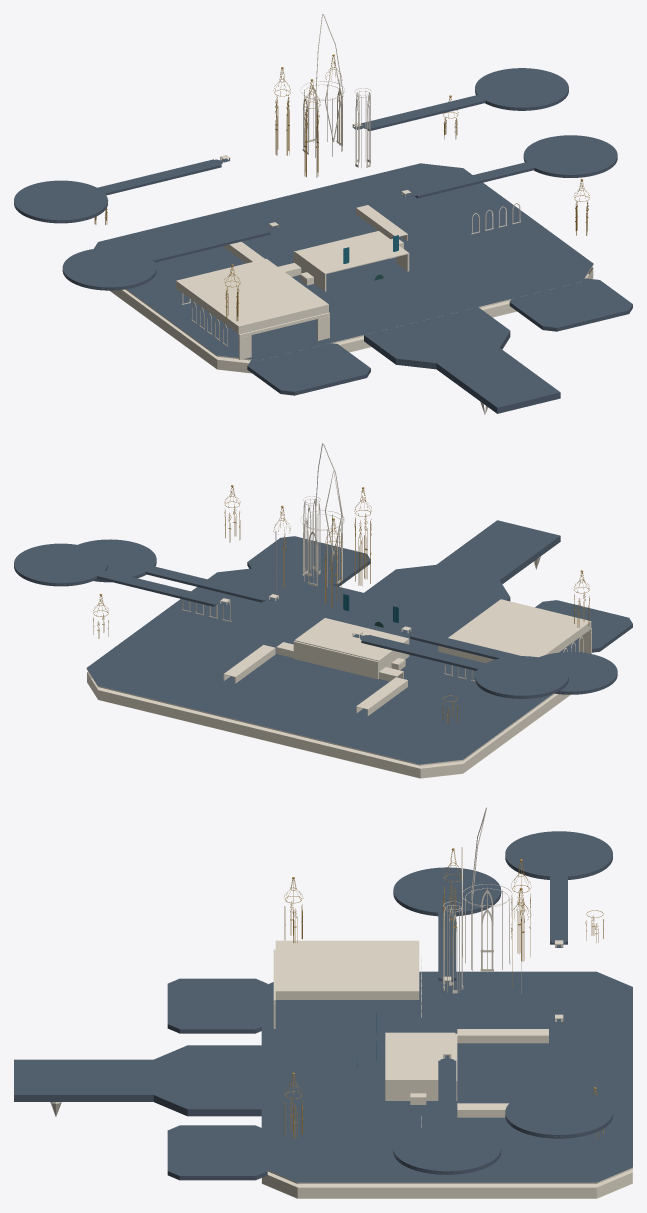
The model's file is Spaceport-00.glb.
3 renders of one model, top to bottom at view 1: azimuth 30°, elevation 25°; view 2: azimuth 150°, elevation 25°; view 3: azimuth 270°, elevation 25°, orthographic. The views are drawn at different scales.
Visible parts, largest first — view 1: NSP01.Native.0.2.Deck, NSP01.Native.0.0.Ivory, NSP01.Native.0.1.Gold; view 2: NSP01.Native.0.2.Deck, NSP01.Native.0.0.Ivory, NSP01.Native.0.1.Gold; view 3: NSP01.Native.0.2.Deck, NSP01.Native.0.0.Ivory, NSP01.Native.0.1.Gold.
Boxes of the visible parts, x1,y1,x2,y2 form: NSP01.Native.0.2.Deck: (14, 68, 632, 413); NSP01.Native.0.0.Ivory: (109, 14, 593, 414); NSP01.Native.0.1.Gold: (94, 54, 589, 321); NSP01.Native.0.2.Deck: (14, 520, 632, 764); NSP01.Native.0.0.Ivory: (86, 443, 591, 778); NSP01.Native.0.1.Gold: (93, 485, 589, 724); NSP01.Native.0.2.Deck: (14, 831, 632, 1182); NSP01.Native.0.0.Ivory: (50, 807, 632, 1198); NSP01.Native.0.1.Gold: (284, 848, 604, 1138).
Size of the model in its own units: 720 by 326 by 620.
